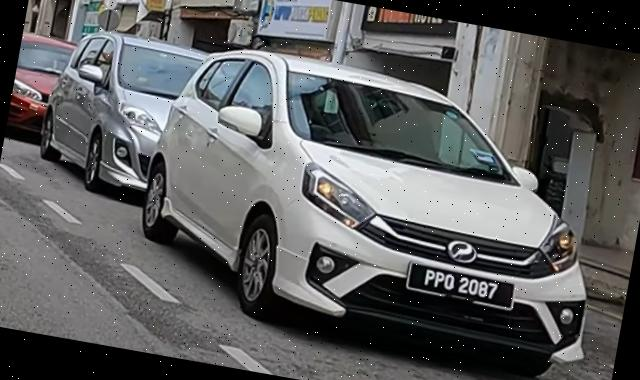License_Plate: (404, 260, 520, 312)
car: (124, 33, 629, 380), (31, 21, 231, 212)
